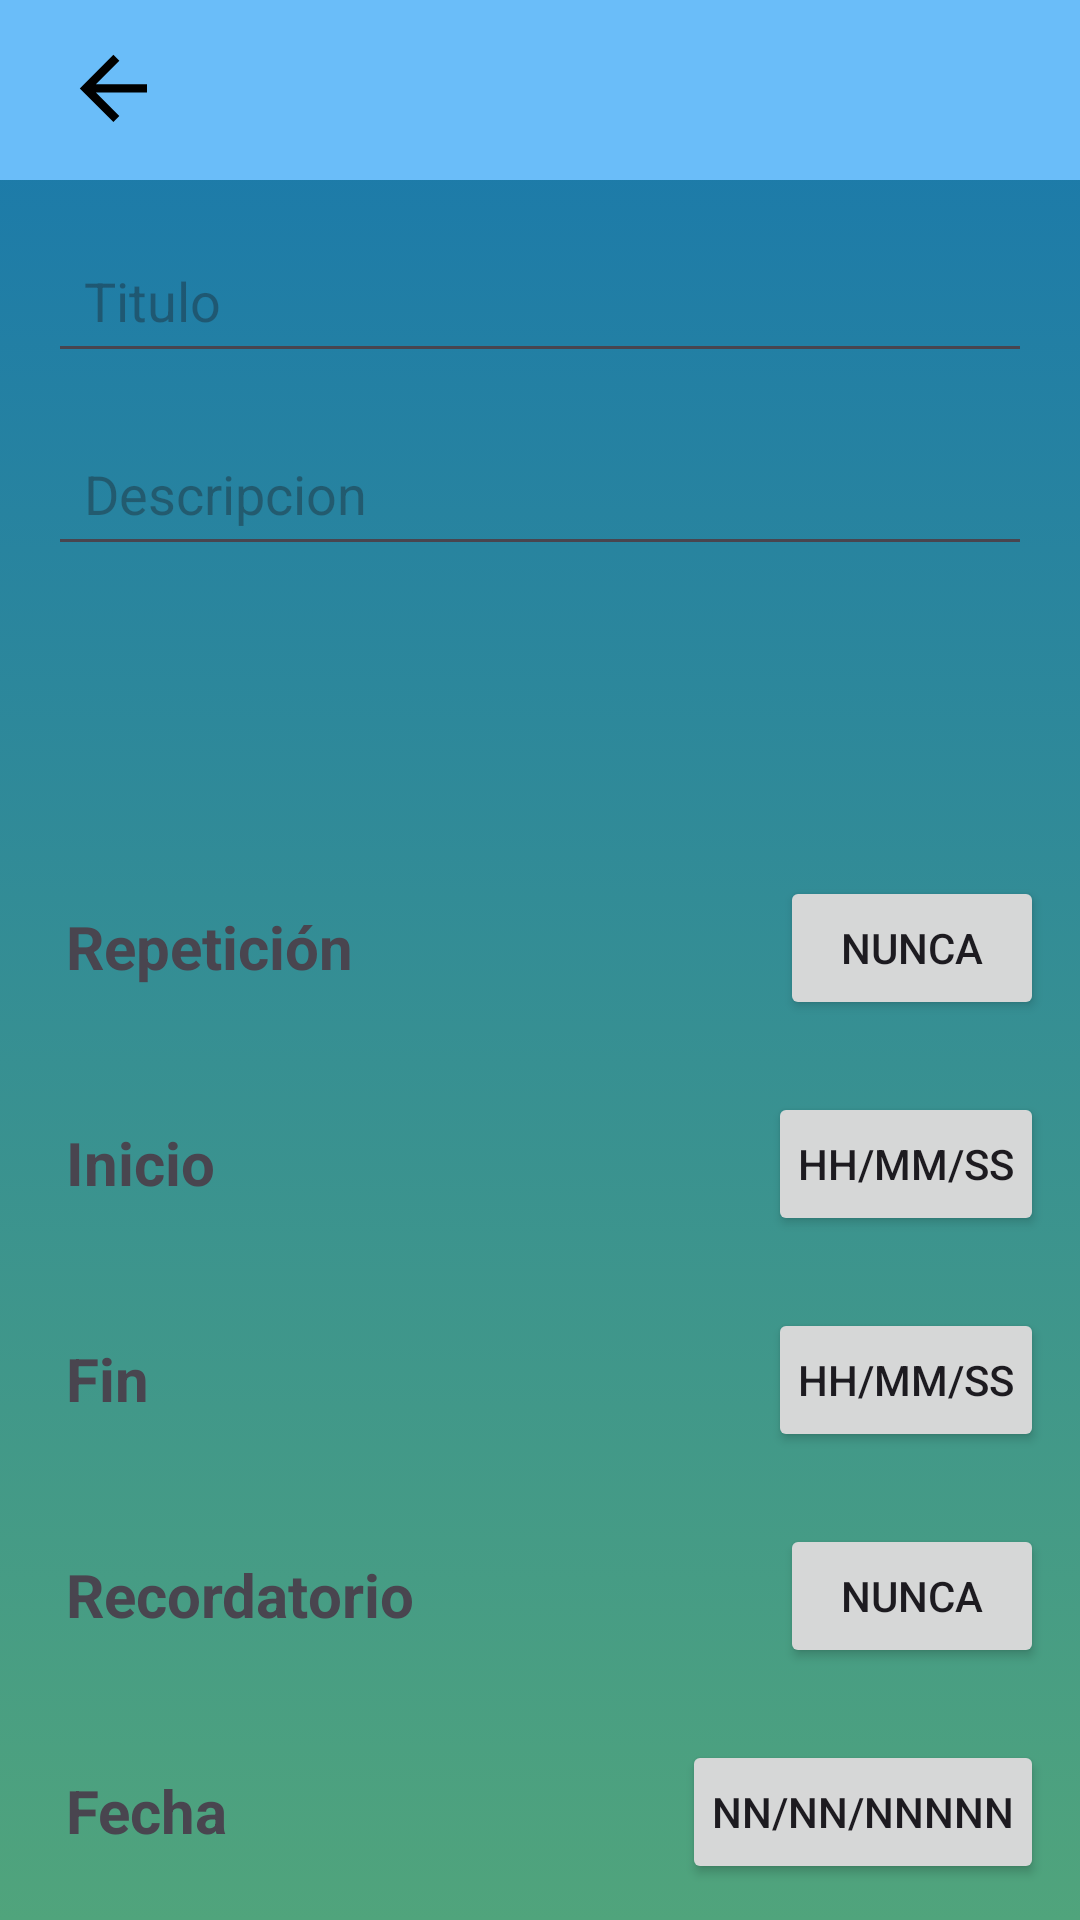

Screen size 1080 × 1920. Icon name, then its box in pixels as (x1, y1, x2, y2):
Regresar hacia atras: (80, 55, 147, 122)
